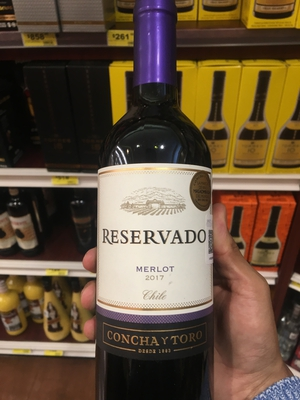reservado merlot: (82, 17, 235, 396)
